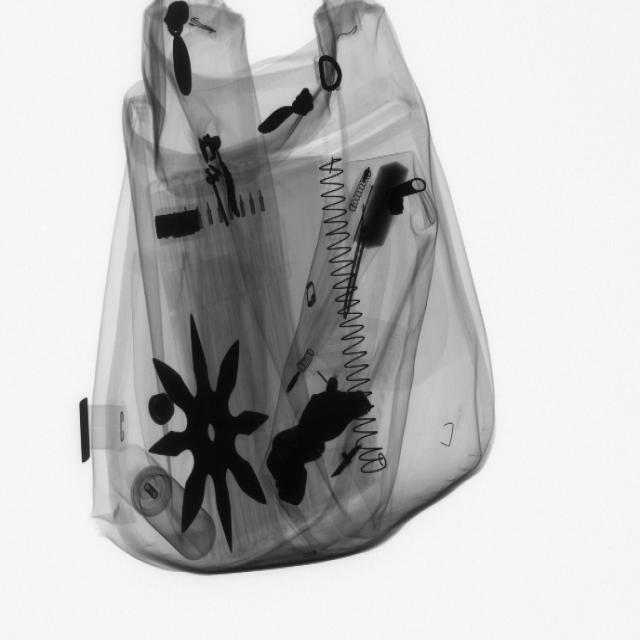BLADE: (344, 228, 371, 325)
SHURIKEN: (151, 310, 272, 555)
